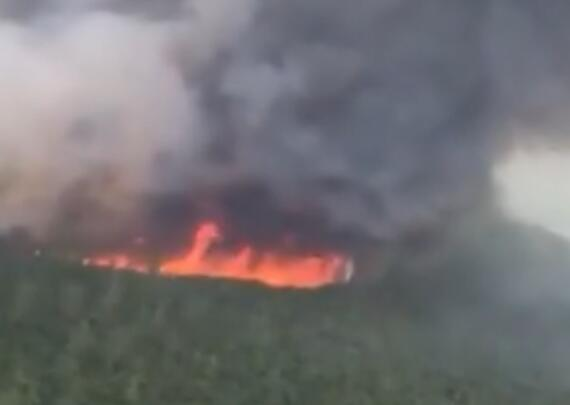fire: (61, 217, 346, 290)
yanwu: (6, 1, 567, 257)
